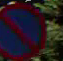No waiting: (0, 0, 48, 60)
